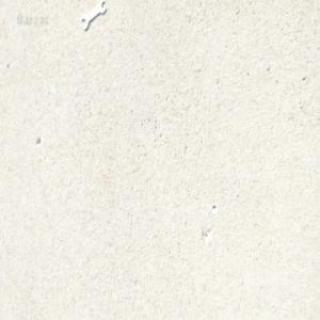Wrenchtrack_idkeyframe: (81, 4, 105, 32)
